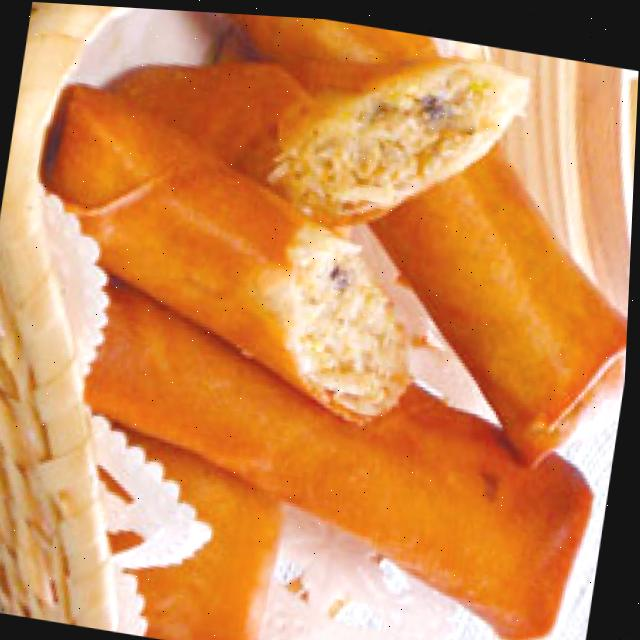鸡蛋料理: (124, 7, 640, 640)
